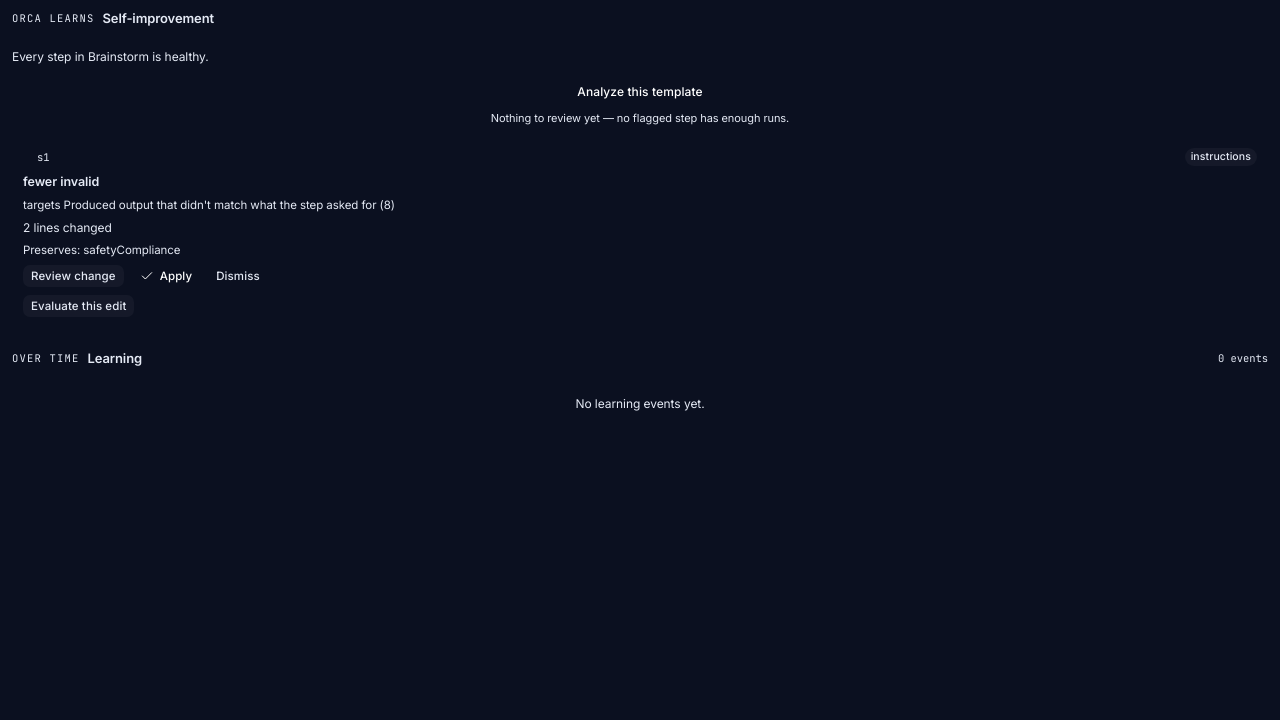
Test: SelfImprovementRail › review modal textarea is controlled and initializes from afterInstructions
Click the button "Review change": (73, 276) [23,266,124,288]
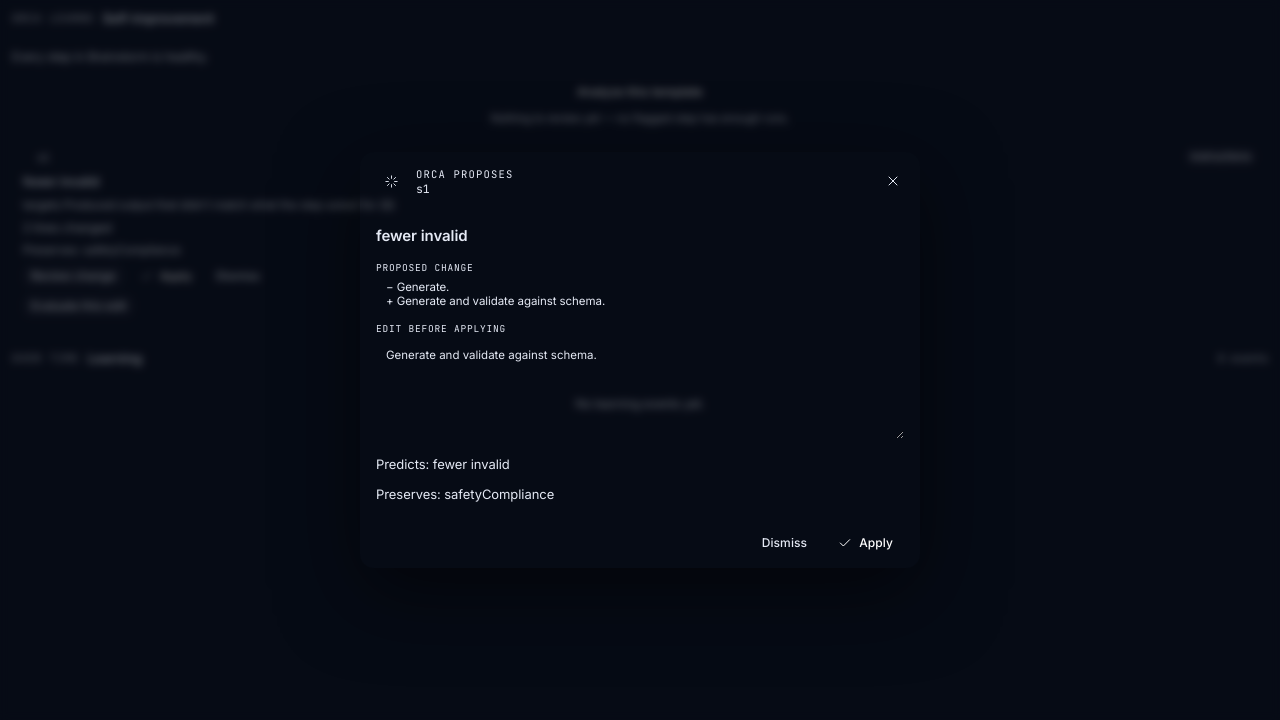
Result: the text box holds "Generate and validate against schema."
Replace the text in the text box with "edited text": (640, 390) [376,341,904,439]
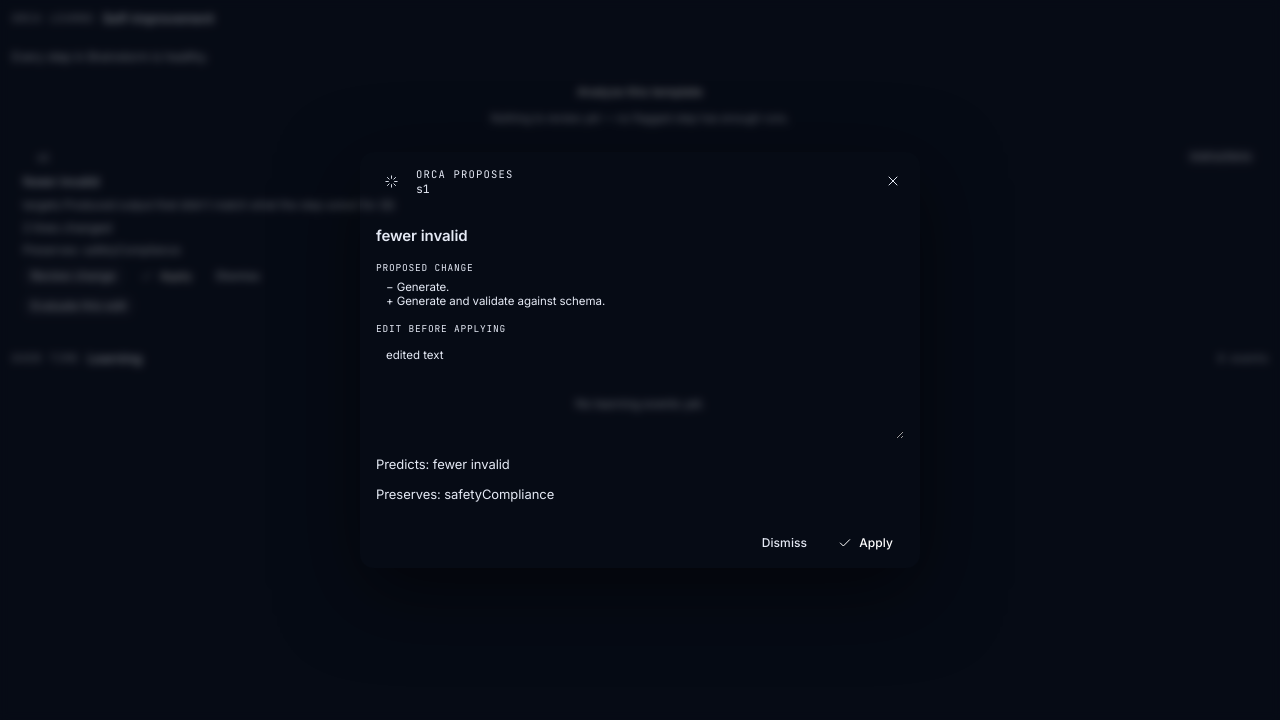
Click the button named "close": (893, 181) [882,170,904,192]
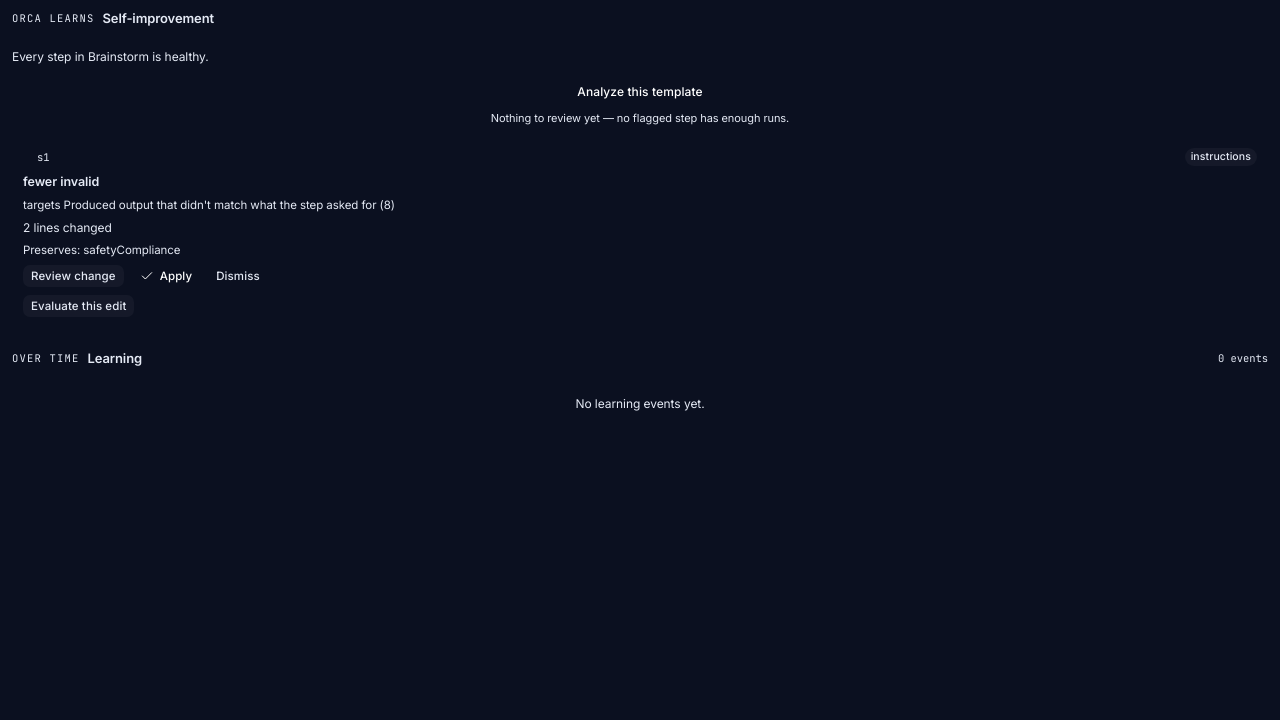
Result: the dialog is gone
Click the button "Review change": (73, 276) [23,266,124,288]
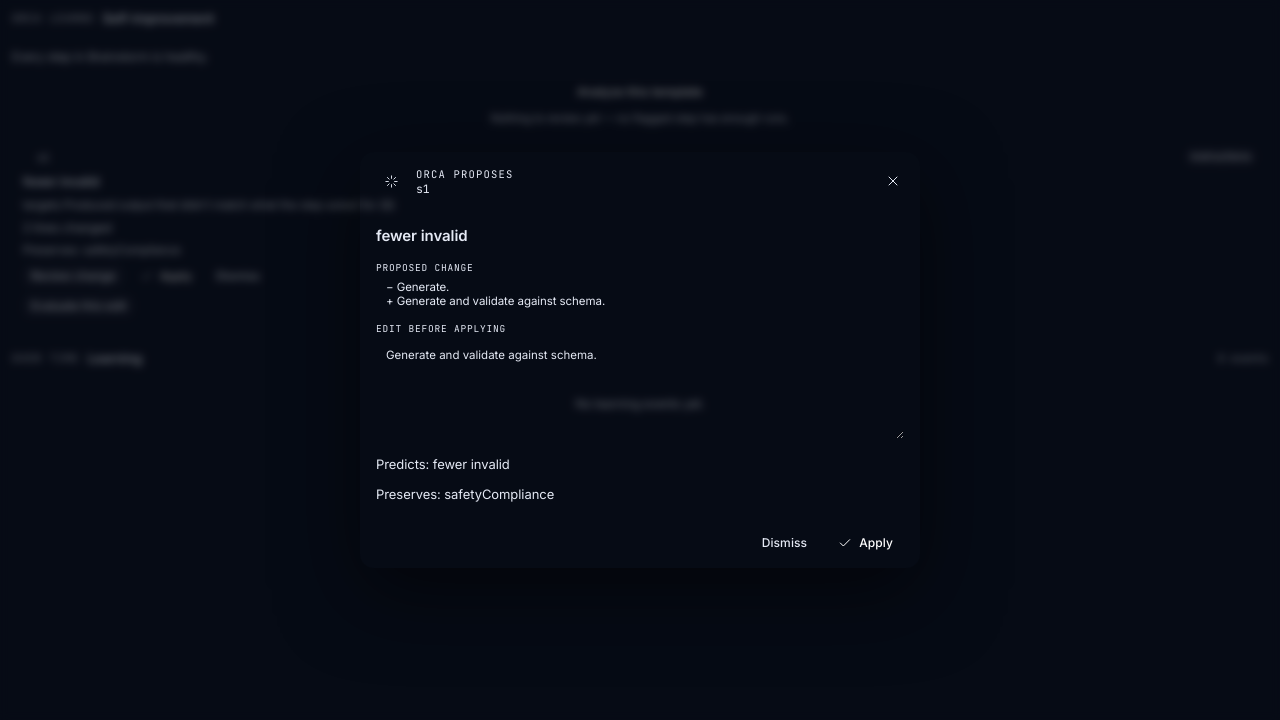
Result: the text box holds "Generate and validate against schema." at [376,341,904,439]
